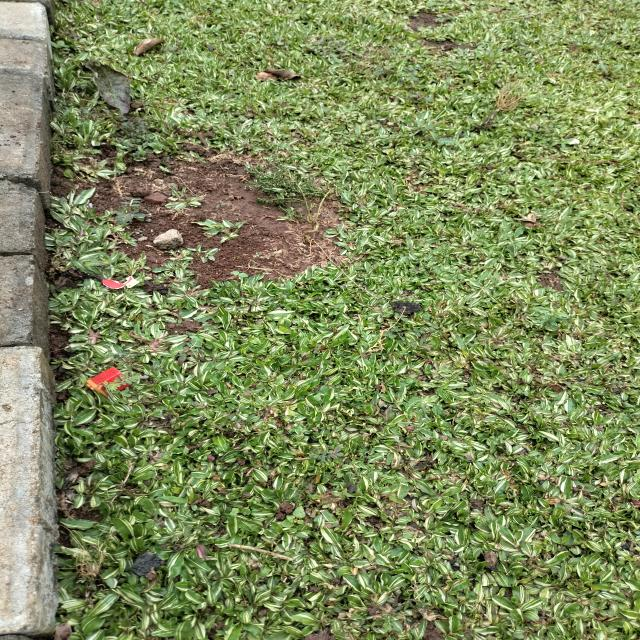bayi: (252, 259, 259, 264), (255, 252, 260, 257), (135, 172, 141, 176), (267, 255, 271, 260), (126, 181, 133, 183)
buah daun: (97, 369, 143, 396), (116, 195, 148, 227), (170, 336, 205, 364), (312, 444, 345, 464), (426, 130, 457, 146)
clover: (413, 326, 426, 337), (382, 330, 396, 340), (389, 324, 401, 333), (428, 322, 439, 331), (407, 340, 418, 348), (423, 312, 432, 321), (424, 344, 434, 352), (398, 338, 408, 346)
gingseng jawa: (160, 491, 202, 511)
lumut besar: (316, 350, 324, 356)
rambat atas: (421, 226, 434, 238)
ungu tunggang: (115, 112, 155, 162), (284, 37, 348, 60), (286, 505, 308, 525)
